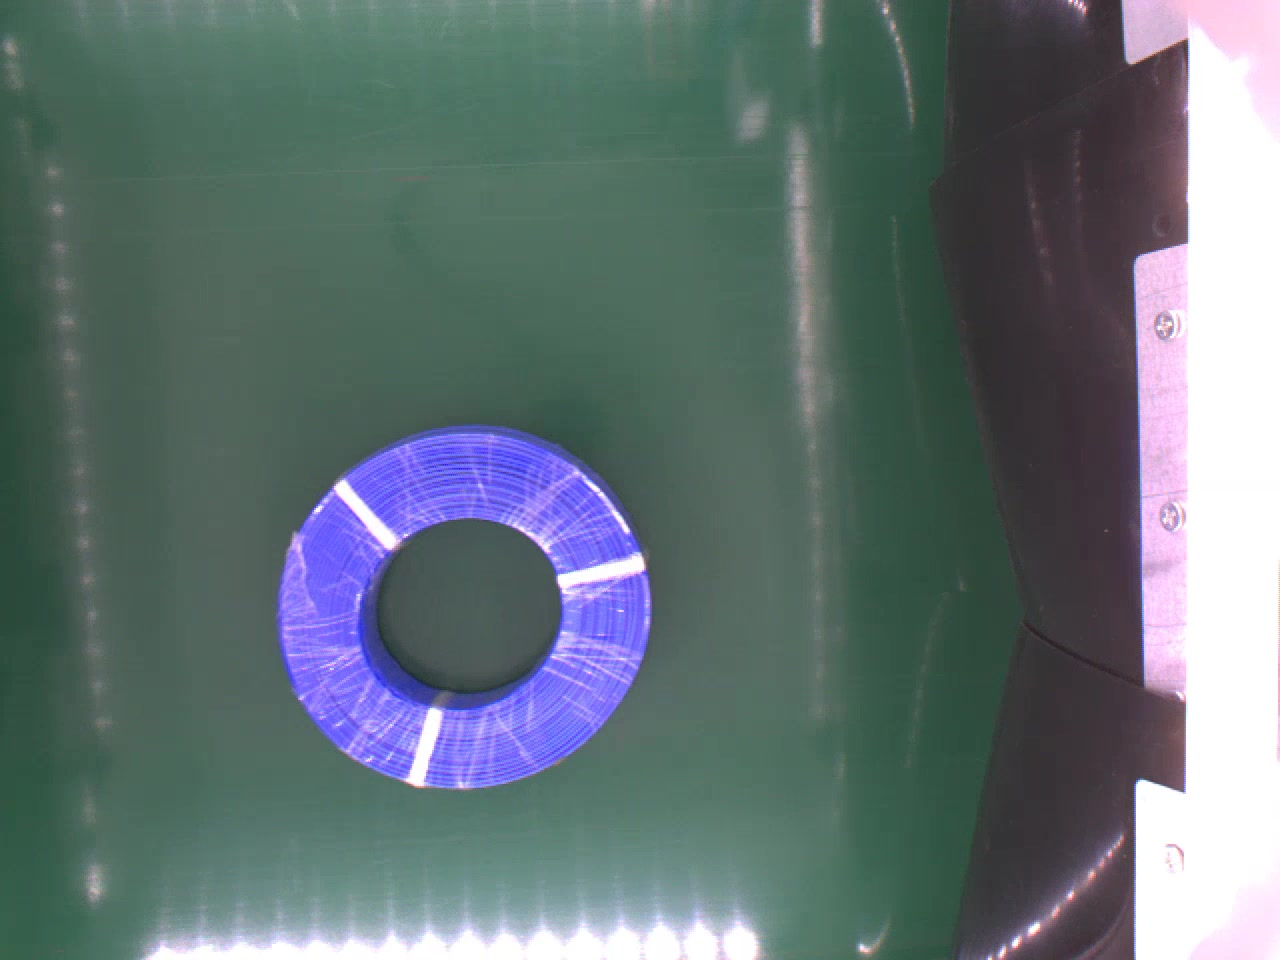blue: (269, 423, 645, 789)
